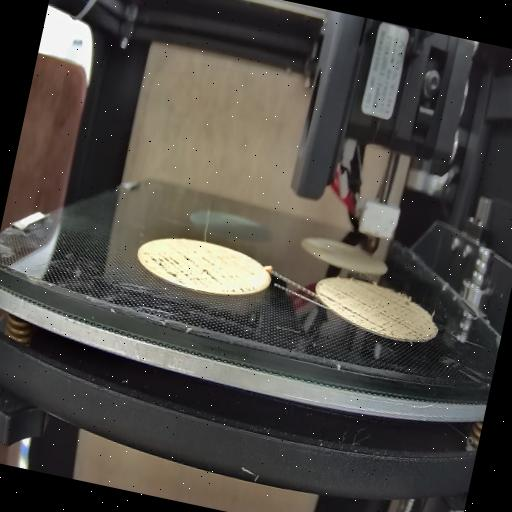under_extrusion: (136, 242, 258, 298), (314, 279, 424, 339)
